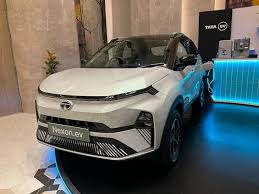Tata Nexon: (34, 29, 211, 167)
